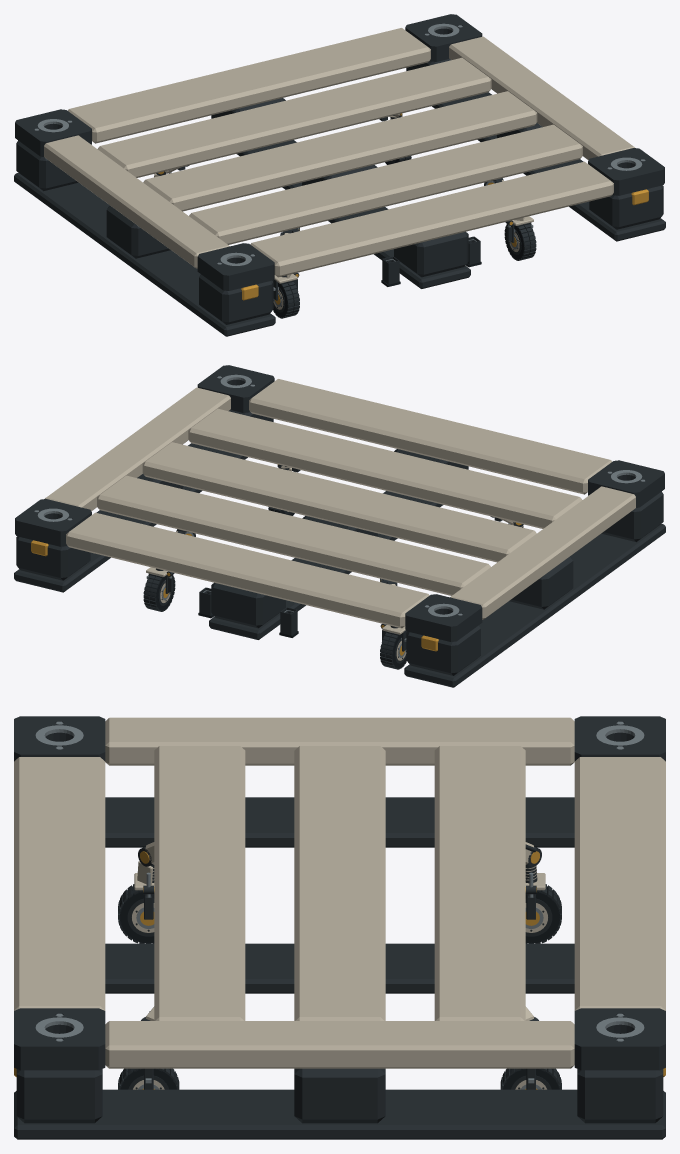
The model's file is stride02_deployed_d0_lod0.glb.
The picture shows the model from 3 angles, top to bottom: view 1: azimuth 30°, elevation 25°; view 2: azimuth 150°, elevation 25°; view 3: azimuth 270°, elevation 25°; orthographic projection. The views are drawn at different scales.
Parts seen in each view (by area): view 1: PALLET_SURFACE, WHEEL_FR_SURFACE, WHEEL_FL_SURFACE, PARK_HOUSINGS_SURFACE; view 2: PALLET_SURFACE, WHEEL_RR_SURFACE, WHEEL_RL_SURFACE, PARK_HOUSINGS_SURFACE; view 3: PALLET_SURFACE, WHEEL_FL_SURFACE, WHEEL_RL_SURFACE, WHEEL_FR_SURFACE, WHEEL_RR_SURFACE.
Part boxes in pixels (x1,y1,x2,y2): PALLET_SURFACE: [14, 14, 665, 336]; WHEEL_FR_SURFACE: [504, 223, 536, 260]; WHEEL_FL_SURFACE: [272, 280, 299, 318]; PARK_HOUSINGS_SURFACE: [382, 236, 480, 284]; PALLET_SURFACE: [14, 365, 665, 687]; WHEEL_RR_SURFACE: [143, 574, 175, 611]; WHEEL_RL_SURFACE: [380, 631, 407, 669]; PARK_HOUSINGS_SURFACE: [199, 587, 297, 635]; PALLET_SURFACE: [14, 716, 665, 1139]; WHEEL_FL_SURFACE: [118, 884, 154, 943]; WHEEL_RL_SURFACE: [525, 884, 561, 943]; WHEEL_FR_SURFACE: [118, 1068, 179, 1089]; WHEEL_RR_SURFACE: [500, 1068, 561, 1089].
Bounding box in the file's own units: 1.2 × 0.25 × 1.
